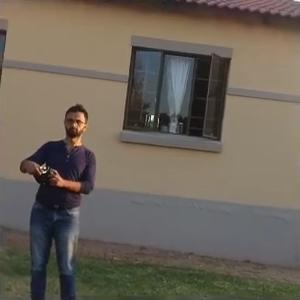follow: (13, 97, 101, 299)
